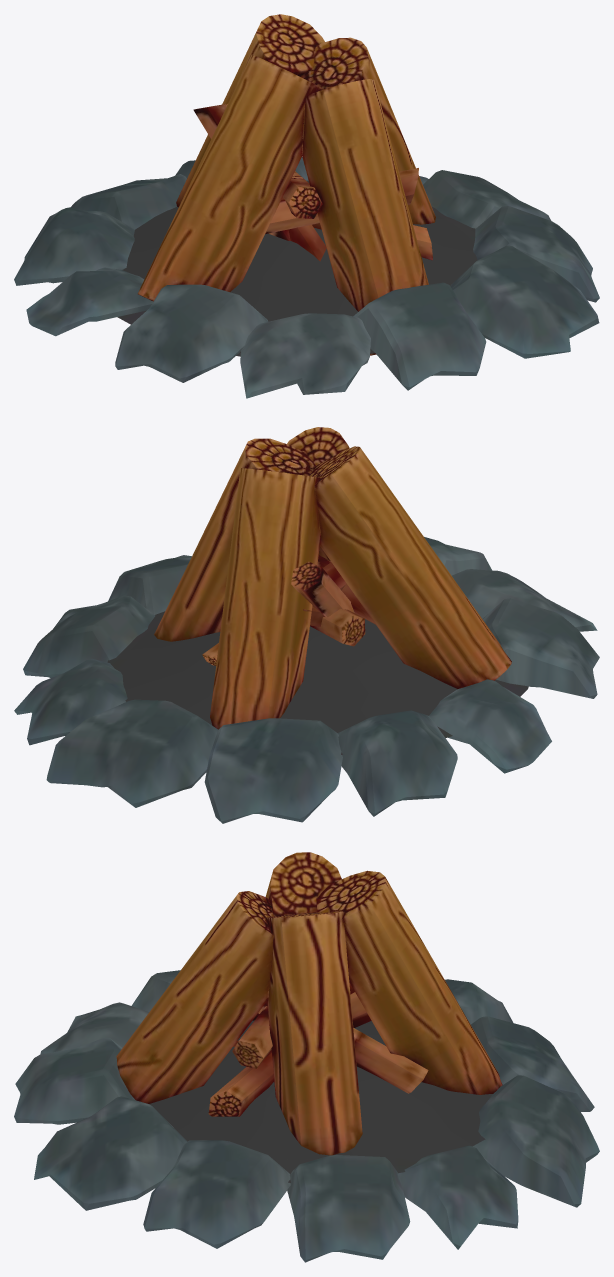
The model's file is PRP_Campfire.glb.
The picture shows the model from 3 angles, top to bottom: view 1: azimuth 30°, elevation 25°; view 2: azimuth 150°, elevation 25°; view 3: azimuth 270°, elevation 25°; orthographic projection.
Visible parts, largest first — view 1: Object_4; view 2: Object_4; view 3: Object_4.
Part boxes in pixels (x1=…): Object_4: x1=14, y1=14, x2=599, y2=398; Object_4: x1=14, y1=427, x2=599, y2=823; Object_4: x1=14, y1=852, x2=599, y2=1262.
Bounding box in the file's own units: 6.42 × 3.29 × 6.42.
Materials: 1 (1 with a texture image).
